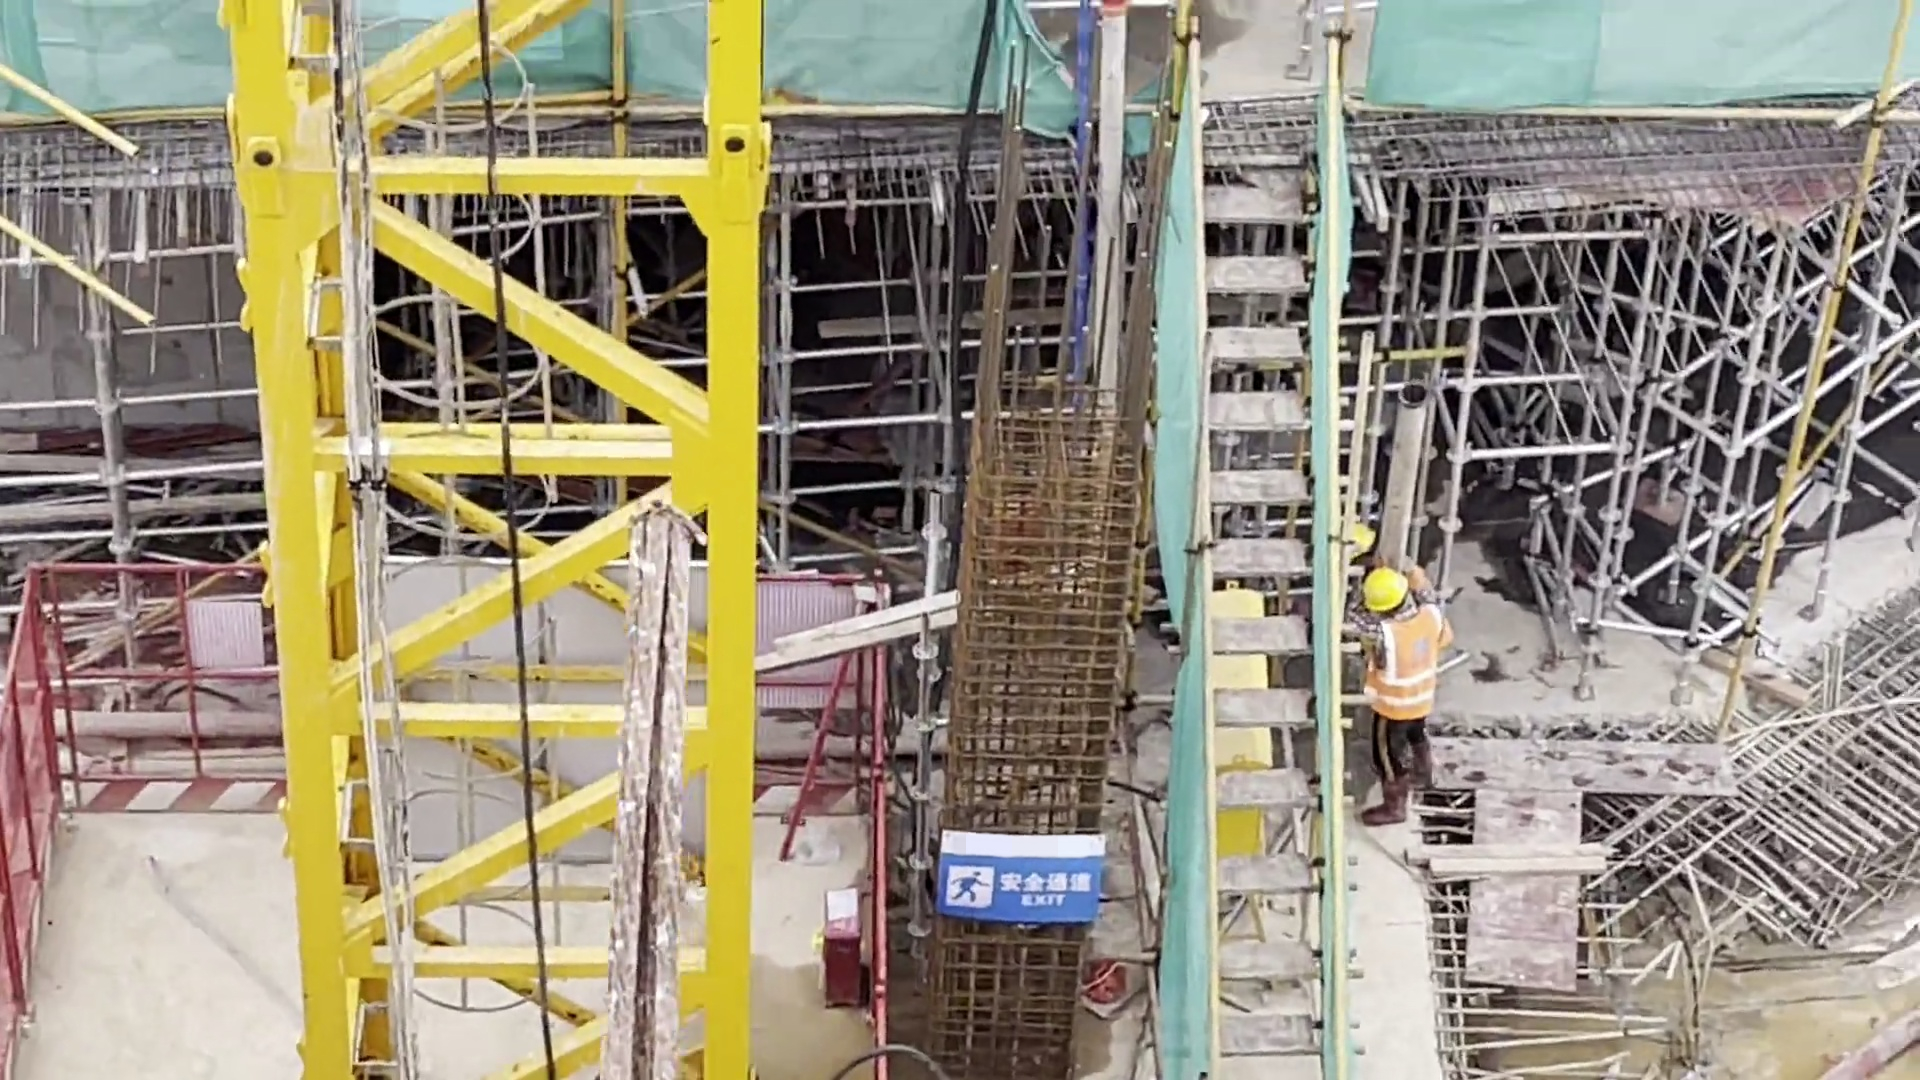ebox: (1207, 565, 1296, 889)
helmet: (1363, 564, 1406, 609)
person: (1355, 561, 1455, 841)
vest: (1366, 605, 1445, 722)
